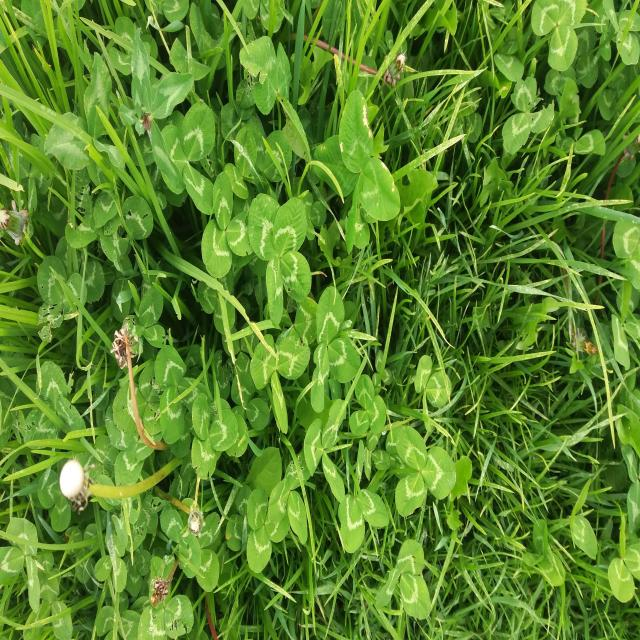Four Leaf Clover: (248, 193, 312, 325)
